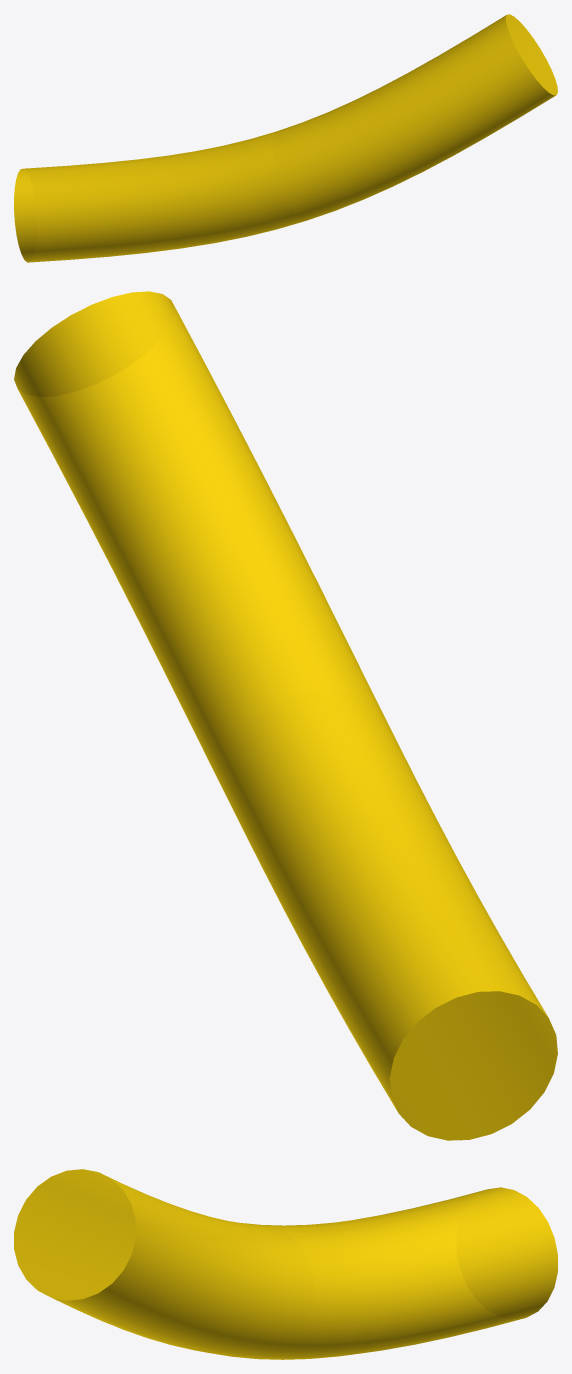
The model's file is Event_421278790_track_36.fbx.
3 views of the same model, one above another, from view 1: azimuth 30°, elevation 25°; view 2: azimuth 150°, elevation 25°; view 3: azimuth 270°, elevation 25° (orthographic). The views are drawn at different scales.
Visible parts, largest first — view 1: Model; view 2: Model; view 3: Model.
Boxes of the visible parts, box(x1,y1,x2,y2) form: Model: box(14, 14, 557, 262); Model: box(14, 291, 557, 1140); Model: box(14, 1169, 557, 1359).
Bounding box in the file's own units: 0.1998 × 0.123 × 0.162.
